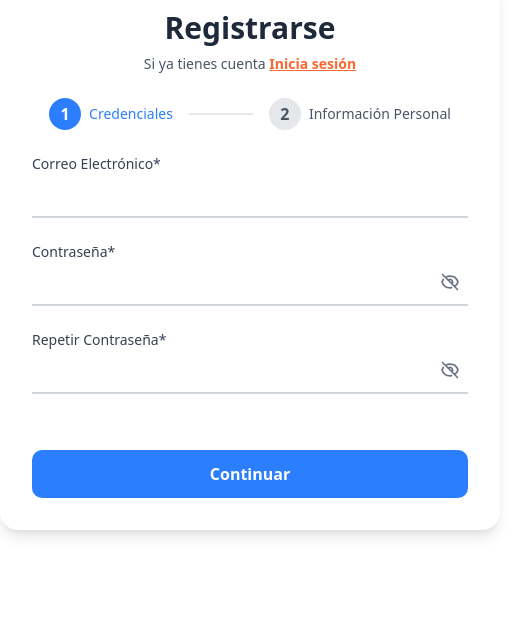
RegisterForm › Navegación entre pasos › debe avanzar al paso 2 cuando el paso 1 es válido
Type "test@example.com" into the field at [250, 197], box [32,176,468,218]
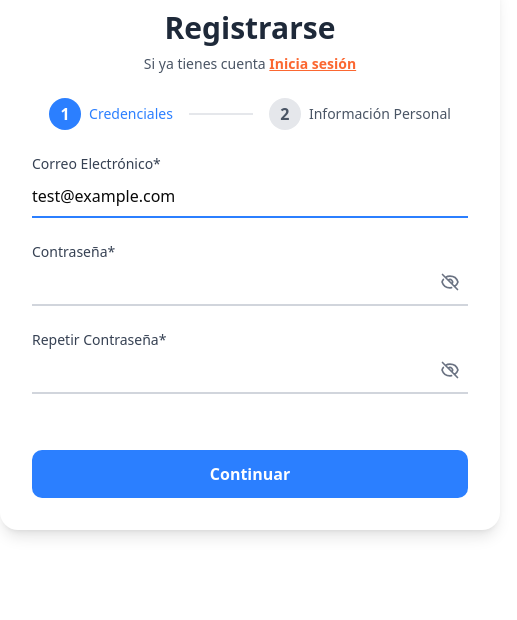
Type "Test1234" into the password field labelled "Contraseña*" at [250, 285], box [32,264,468,306]
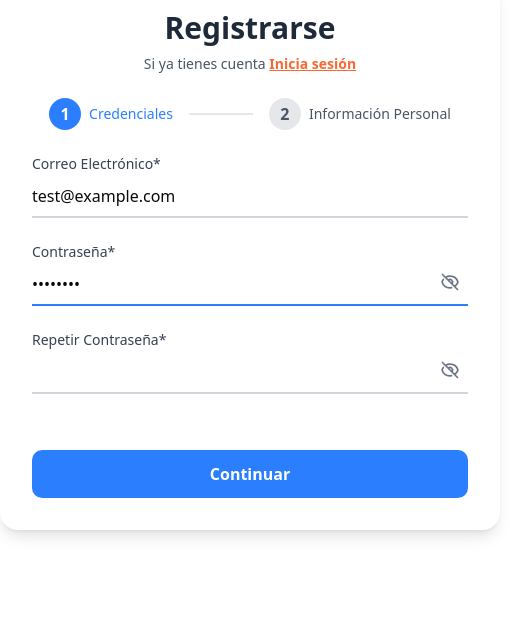
Type "Test1234" into the password field labelled "Repetir Contraseña*" at [250, 373], box [32,352,468,394]
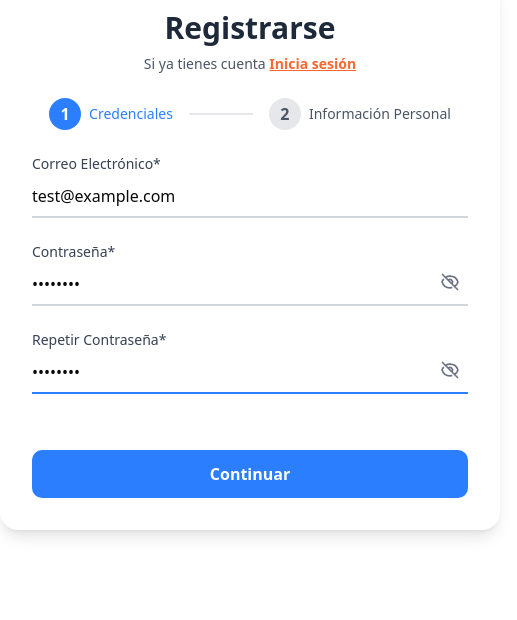
// Click en Continuar
Click the button "Continuar" at [250, 474], box [32,450,468,498]
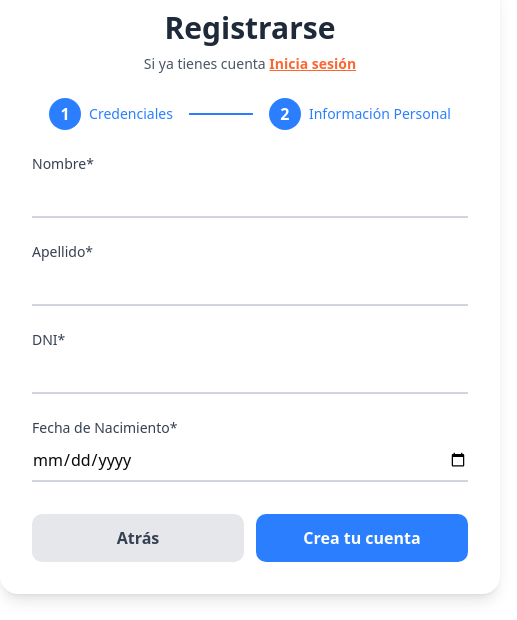
Check: the text "Nombre*" is shown, box [32,154,94,173]
Check: the text "Apellido*" is shown, box [32,242,93,261]
Check: the text "DNI*" is shown, box [32,330,65,349]
